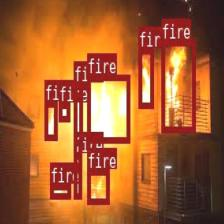fire: (161, 39, 195, 131), (86, 74, 130, 142), (138, 47, 153, 107), (86, 169, 109, 203), (73, 82, 82, 144), (44, 100, 57, 139), (73, 153, 81, 197), (50, 184, 70, 198), (58, 102, 69, 120)
